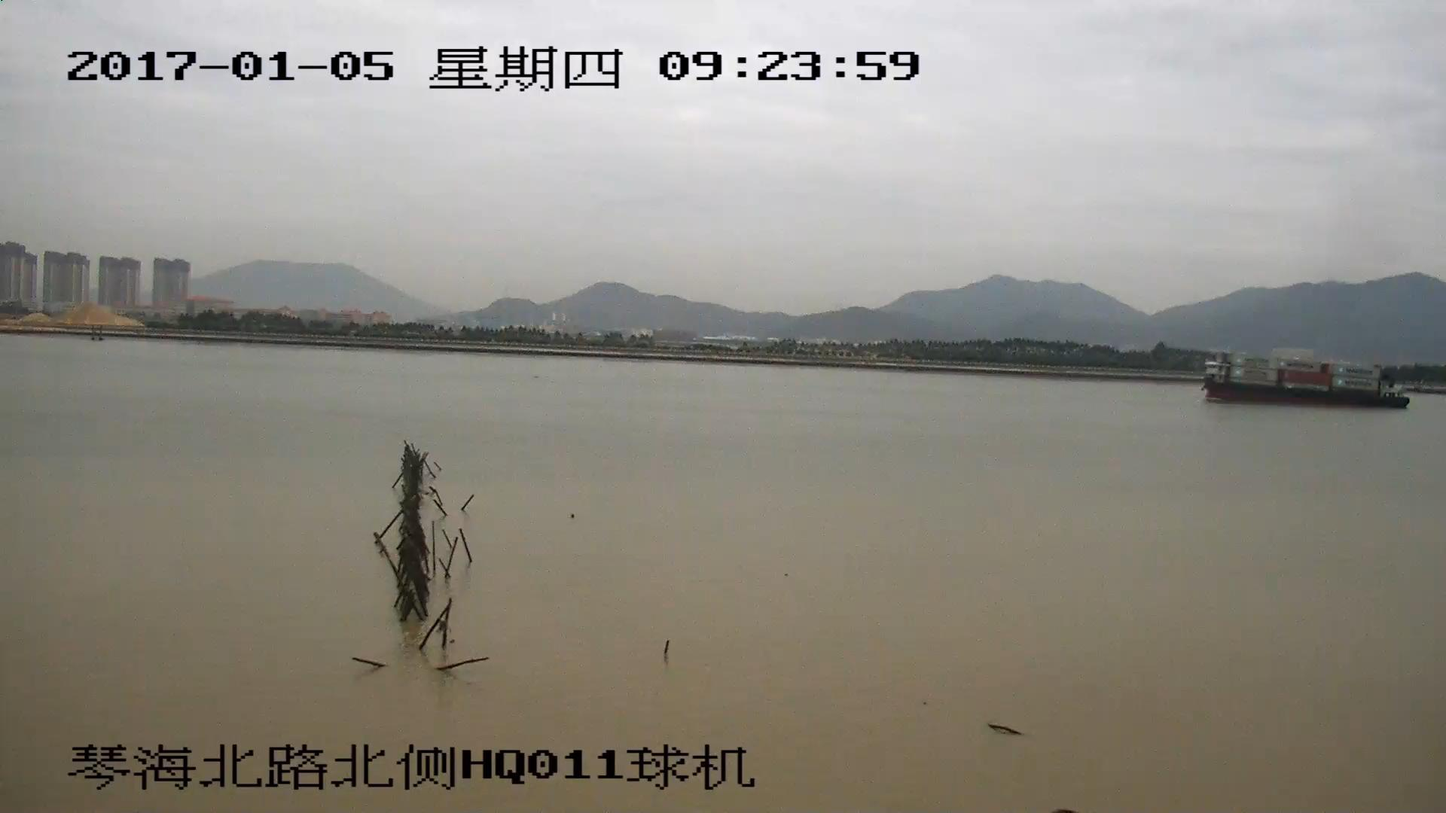container ship: (1201, 352, 1407, 407)
